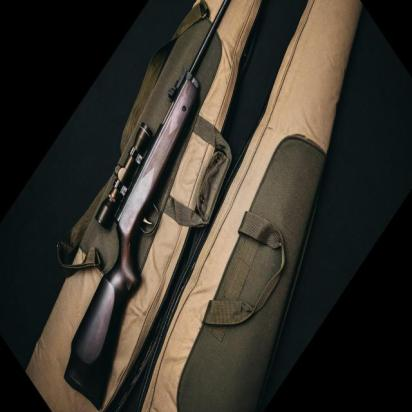Gun: (63, 0, 231, 412)
